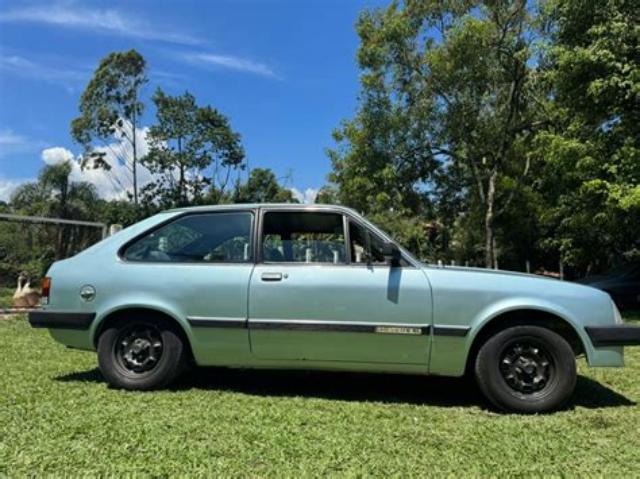chevette-1983: (28, 203, 639, 413)
